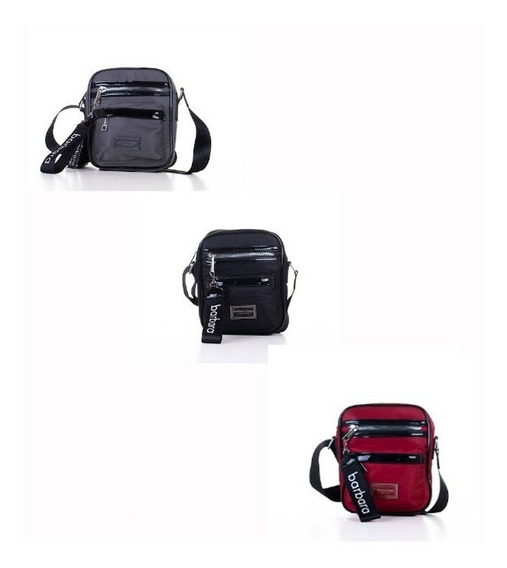cartera: (39, 66, 213, 175), (309, 401, 451, 521), (181, 228, 297, 347)
